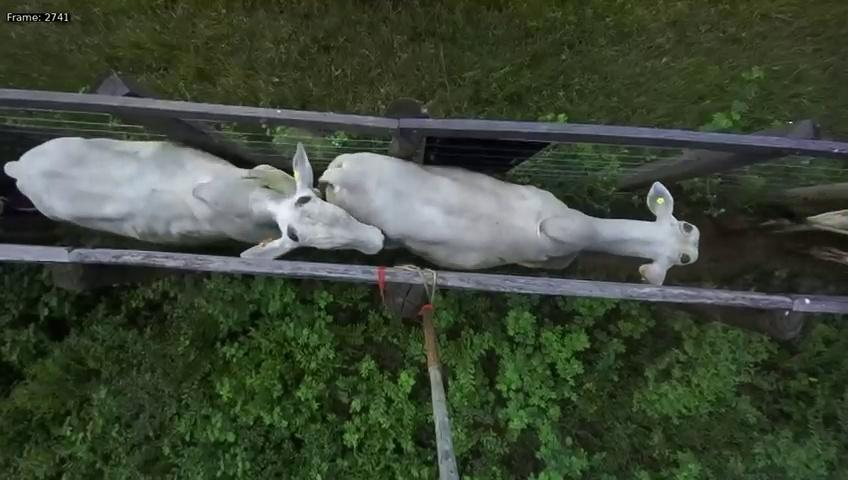cattle: (320, 122, 702, 285), (0, 132, 403, 272)
